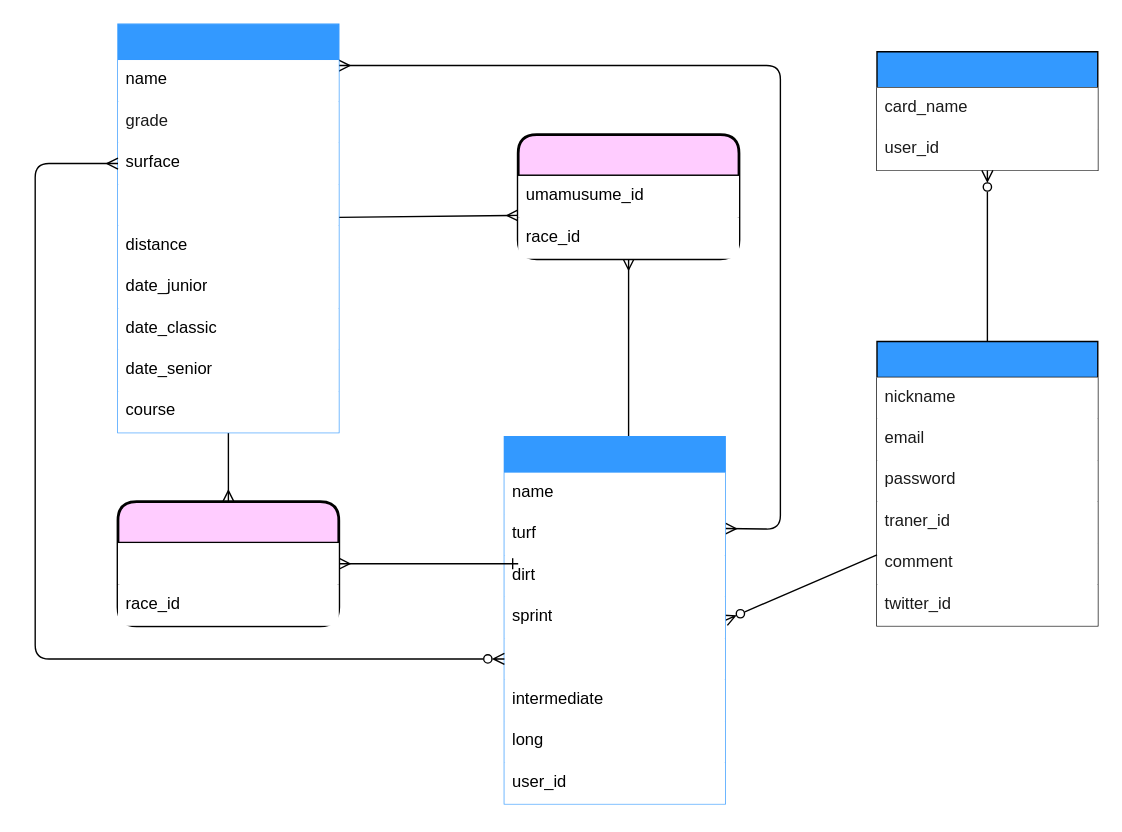
Some shapes in this 1122 by 832 pixel diagram are drawn without their labels. The box of each missing label's shape, as (x1, y1, x2, y2) in pixels:
classification: (117, 184, 338, 225)
mile: (504, 638, 724, 679)
races: (117, 23, 339, 433)
record_of_wins: (516, 132, 740, 259)
support_cards: (876, 50, 1098, 170)
target_races: (116, 500, 339, 627)
umamusme_id: (117, 542, 338, 584)
umamusumes: (503, 435, 725, 804)
users: (876, 340, 1098, 626)
